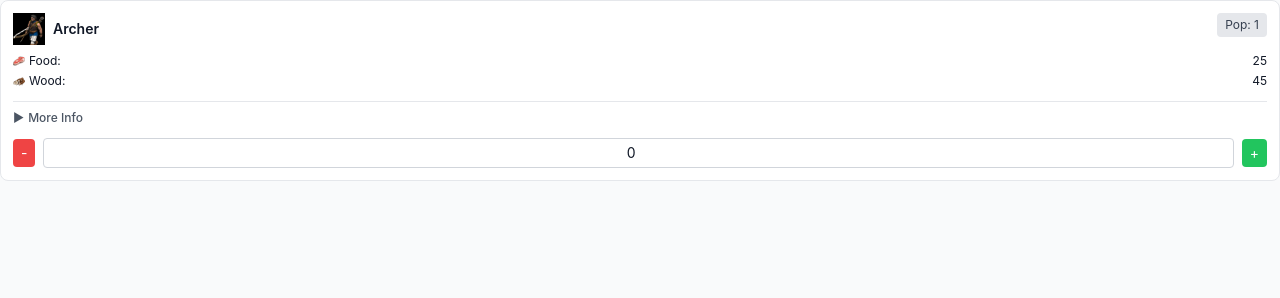
Scenario: UnitCard › More Info section (consolidated counters and stats) › should collapse when toggle is clicked again
Step 1. Click the text "More Info" → click(56, 118), box x1=28 y1=110 x2=83 y2=126
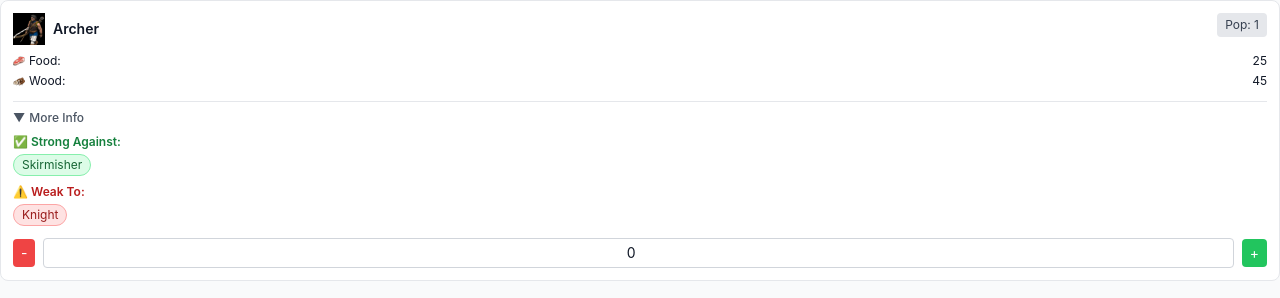
Step 2. Click the text "More Info" → click(57, 118), box x1=29 y1=110 x2=84 y2=126
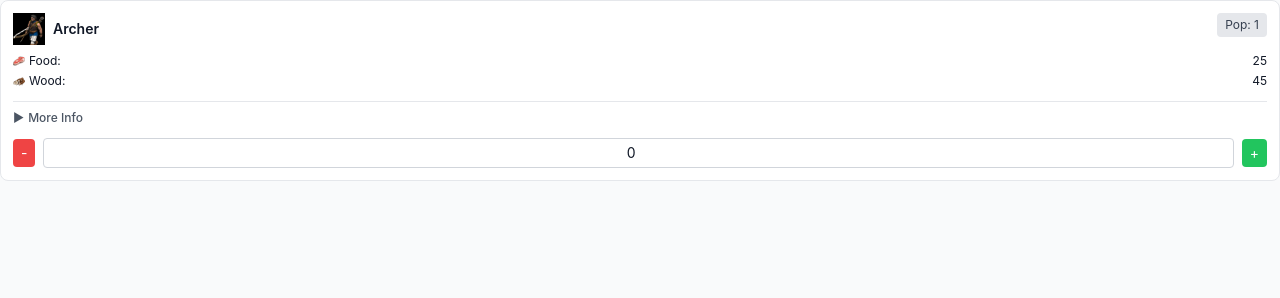
Check: the text "Strong Against:" is gone
